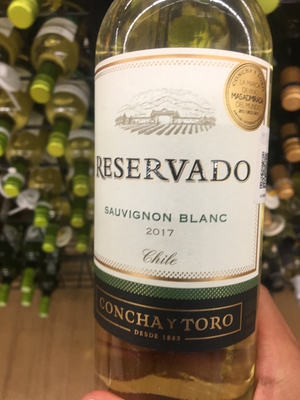reservado sauvignon blanc: (90, 12, 275, 398)
